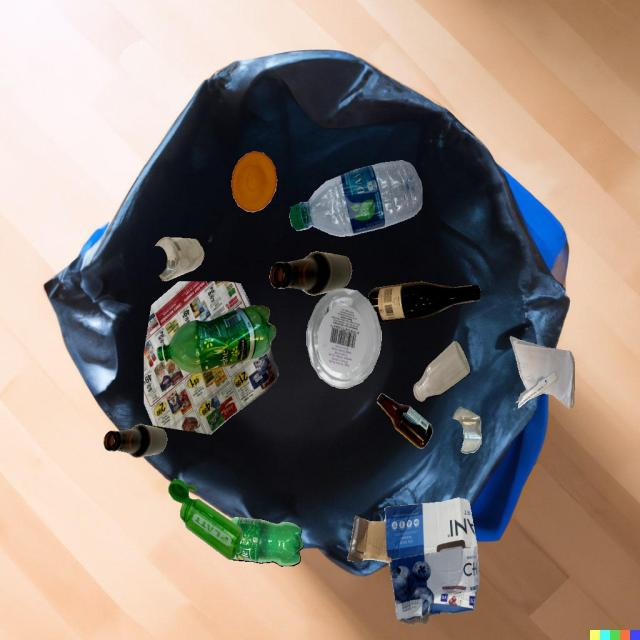cardboard: (347, 498, 479, 625)
glass: (368, 282, 481, 323), (269, 251, 352, 296), (413, 341, 471, 402), (377, 393, 433, 449), (103, 424, 167, 458), (155, 237, 204, 281), (452, 407, 482, 454)
paper: (144, 281, 279, 435), (510, 336, 575, 409)
plastic: (289, 160, 422, 237), (157, 305, 276, 374), (306, 288, 381, 388), (168, 479, 242, 560), (230, 517, 304, 566), (231, 151, 277, 212)
